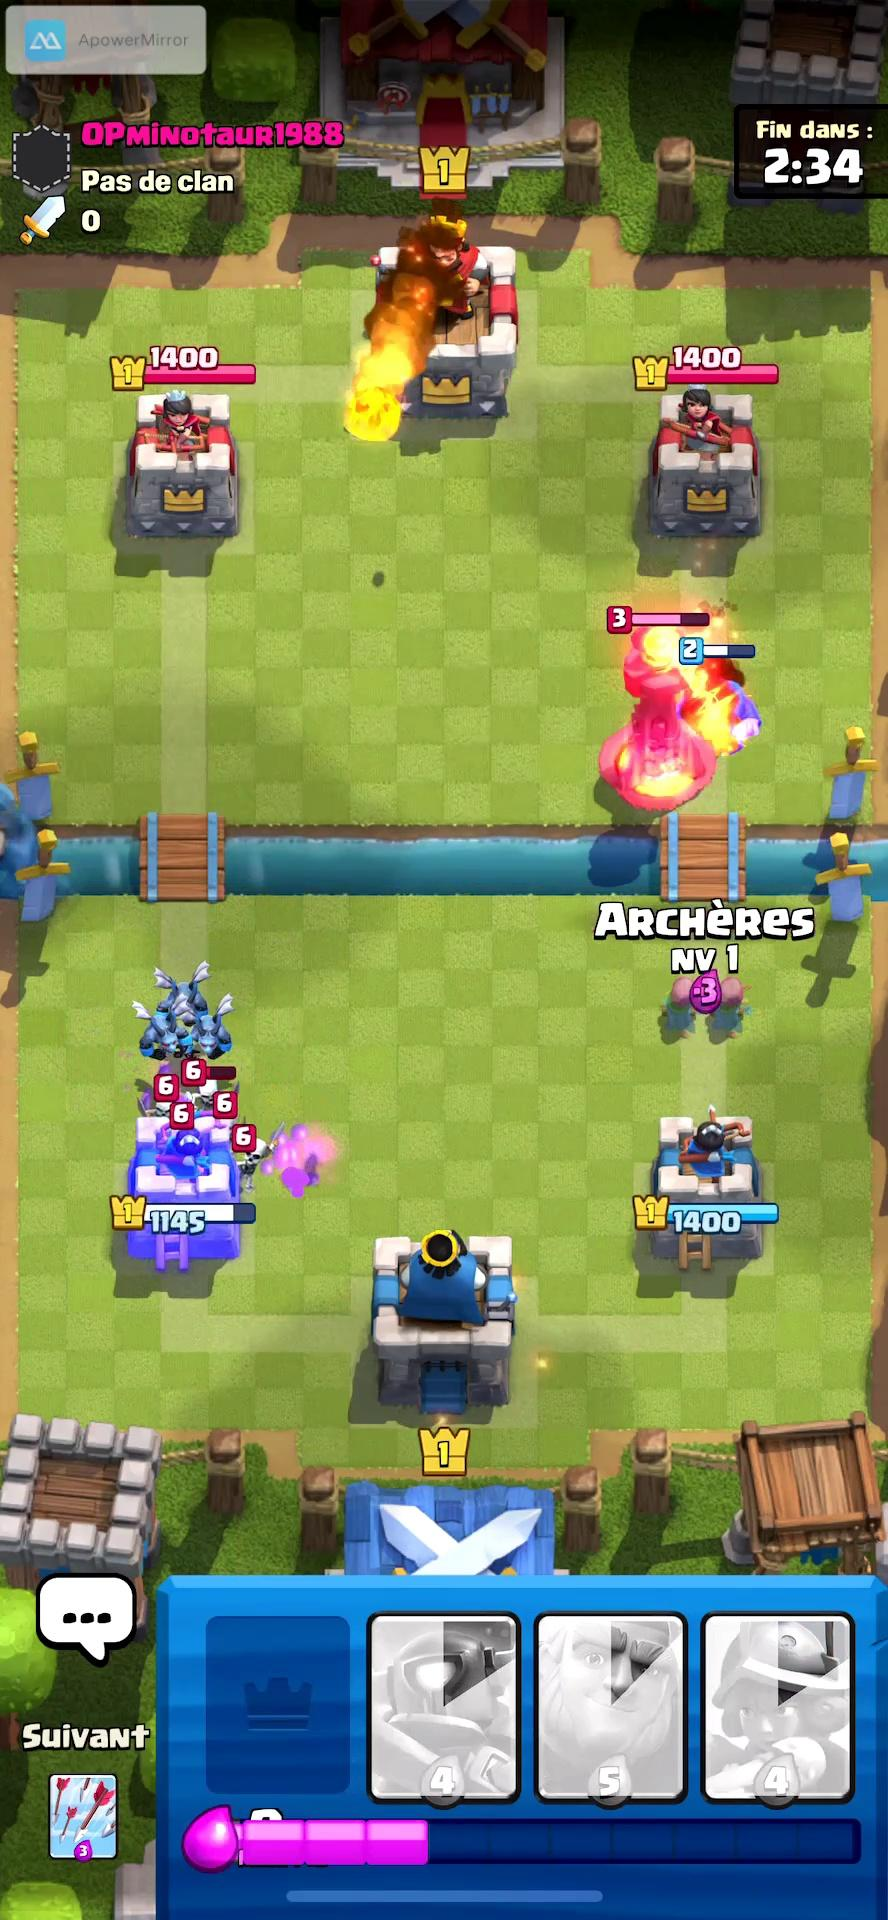archere: (713, 972, 759, 1040), (655, 972, 699, 1043)
gargouille: (152, 964, 217, 1031), (189, 1004, 241, 1054), (141, 1009, 189, 1063)
squelette: (241, 1133, 278, 1196), (191, 1069, 228, 1114), (152, 1096, 176, 1120), (184, 1090, 202, 1118)
